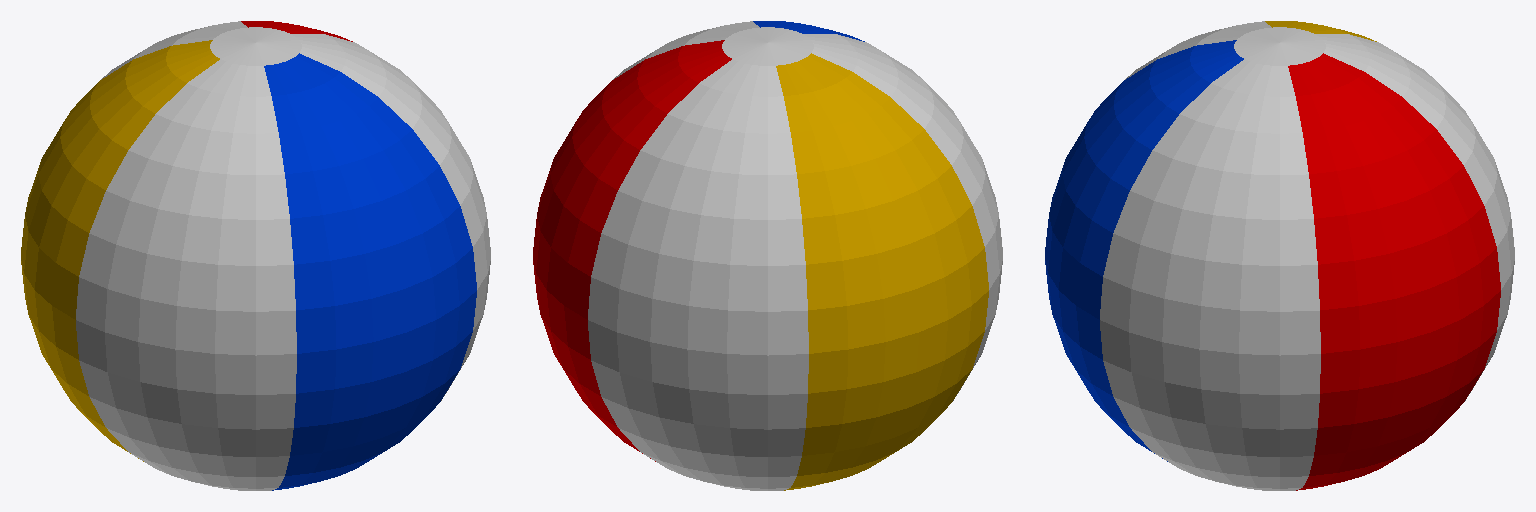
The model's file is beach_ball.obj.
3 views of the same model, side by side, from view 1: azimuth 30°, elevation 25°; view 2: azimuth 150°, elevation 25°; view 3: azimuth 270°, elevation 25° (orthographic).
Parts seen in each view (by area): view 1: Sphere_Sphere.001; view 2: Sphere_Sphere.001; view 3: Sphere_Sphere.001.
Boxes of the visible parts, <box> form: Sphere_Sphere.001: <box>21,21,490,490</box>; Sphere_Sphere.001: <box>533,21,1002,490</box>; Sphere_Sphere.001: <box>1045,21,1514,490</box>.
Bounding box in the file's own units: 2 × 2 × 2.